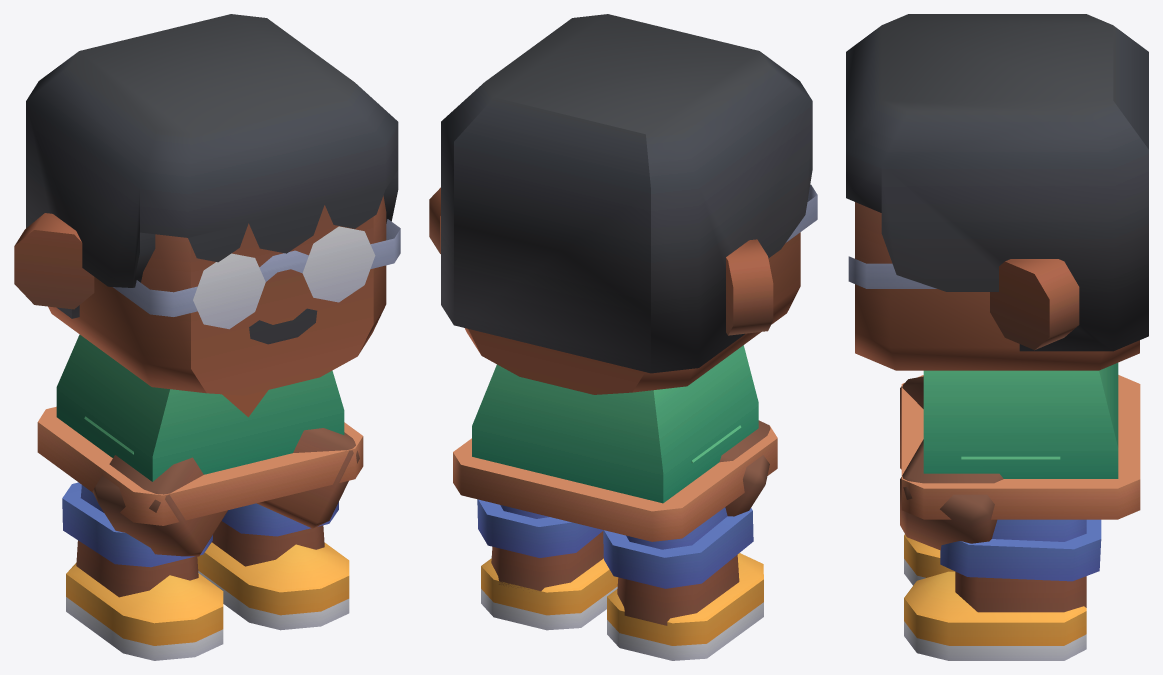
File: people-male-a-cheer.glb
The picture shows the model from 3 angles, left to right: view 1: azimuth 30°, elevation 25°; view 2: azimuth 150°, elevation 25°; view 3: azimuth 270°, elevation 25°; orthographic projection.
Visible parts, largest first — view 1: character-male-a-cheer; view 2: character-male-a-cheer; view 3: character-male-a-cheer.
Part boxes in pixels (left/top/right/bottom): character-male-a-cheer: left=14, top=14, right=400, bottom=660; character-male-a-cheer: left=429, top=14, right=817, bottom=660; character-male-a-cheer: left=846, top=14, right=1148, bottom=660.
Bounding box in the file's own units: 0.4535 × 0.6713 × 0.34.
1 material, 1 textured.
